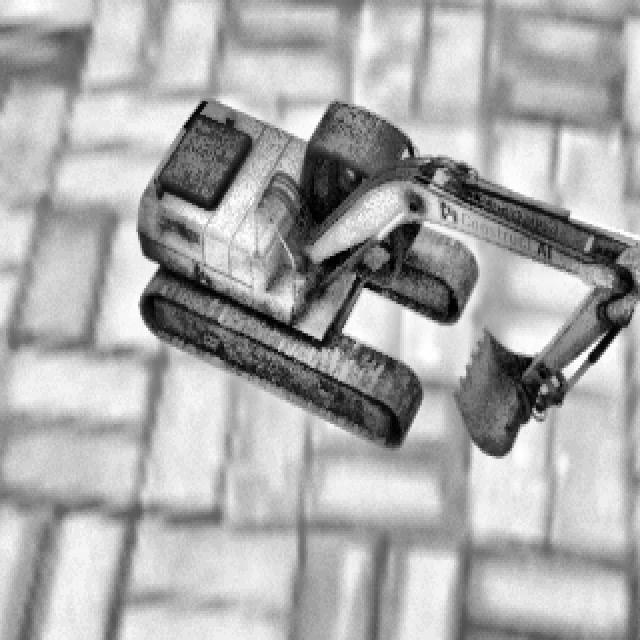excavator: (138, 96, 640, 453)
